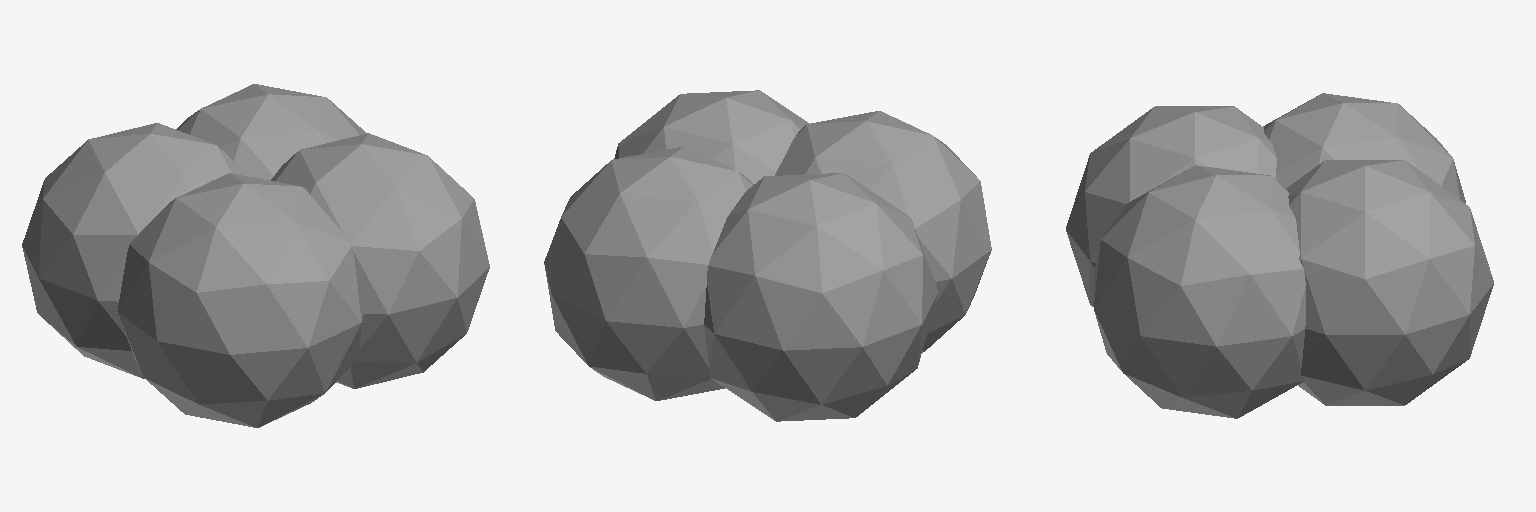
Rendered from helium.obj.
The picture shows the model from 3 angles: view 1: azimuth 30°, elevation 25°; view 2: azimuth 150°, elevation 25°; view 3: azimuth 270°, elevation 25°; orthographic projection.
Parts seen in each view (by area): view 1: Icosphere; view 2: Icosphere; view 3: Icosphere.
Boxes of the visible parts, <box> form: Icosphere: <box>22,84,489,427</box>; Icosphere: <box>544,90,991,421</box>; Icosphere: <box>1066,93,1493,418</box>.
Size of the model in its own units: 3.32 by 2 by 3.32.